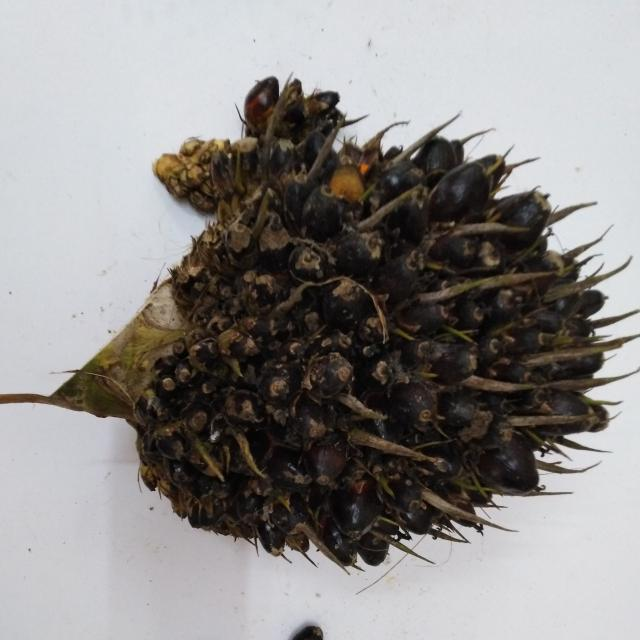FFB: (126, 122, 613, 560)
